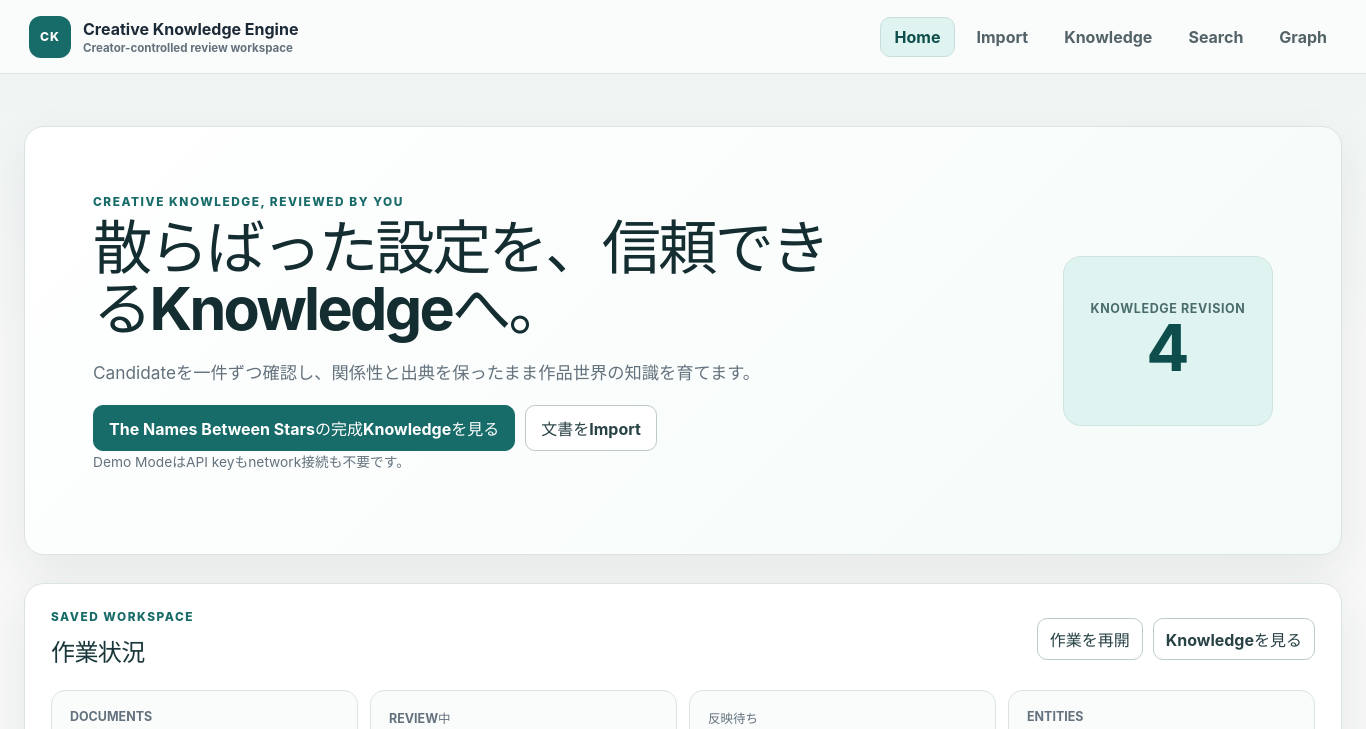
Test: Step 7 Export UI › maps download failures without leaking internal errors
The width and height of the screenshot is (1366, 729).
Expected: the heading "散らばった設定を、信頼できるKnowledgeへ。" is shown, [93, 218, 873, 340]
Click the button "Knowledge": (1108, 36) [1049, 16, 1167, 56]
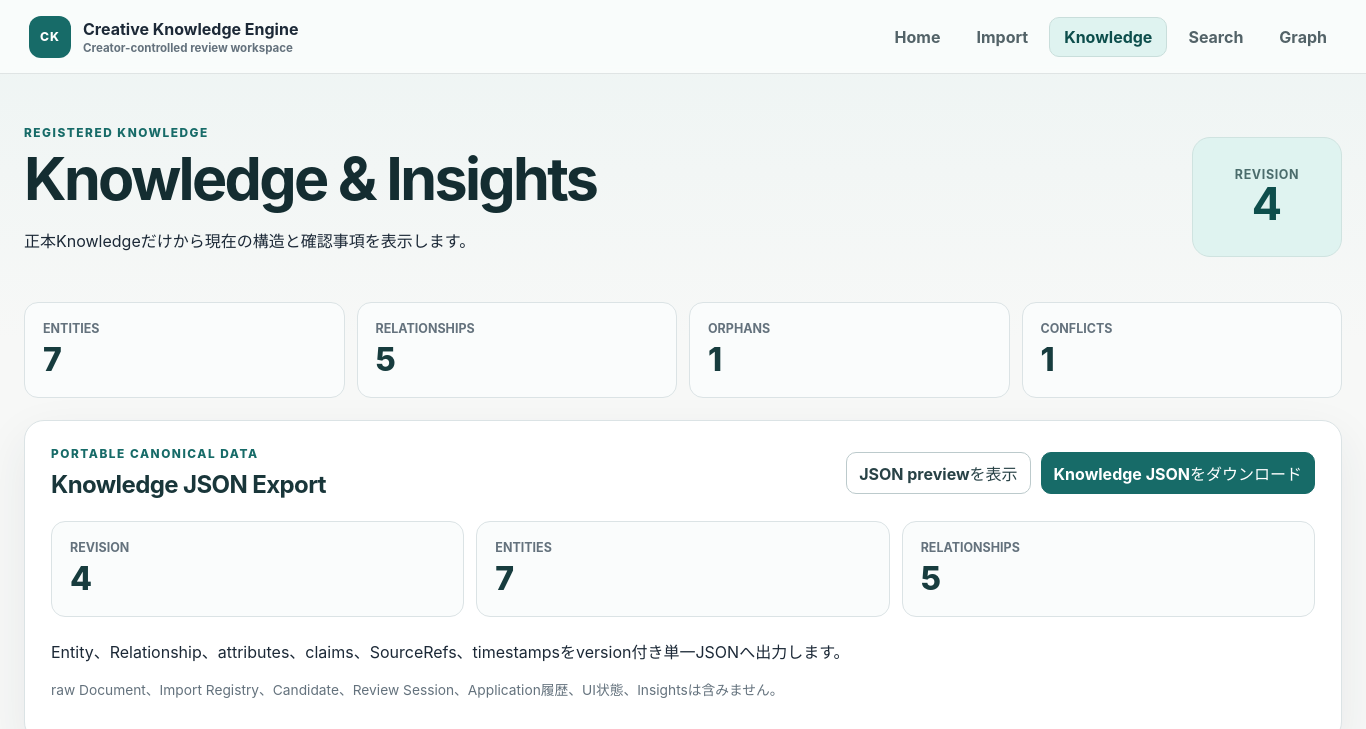
Click the button "Knowledge JSONをダウンロード": (1178, 473) [1041, 452, 1315, 494]
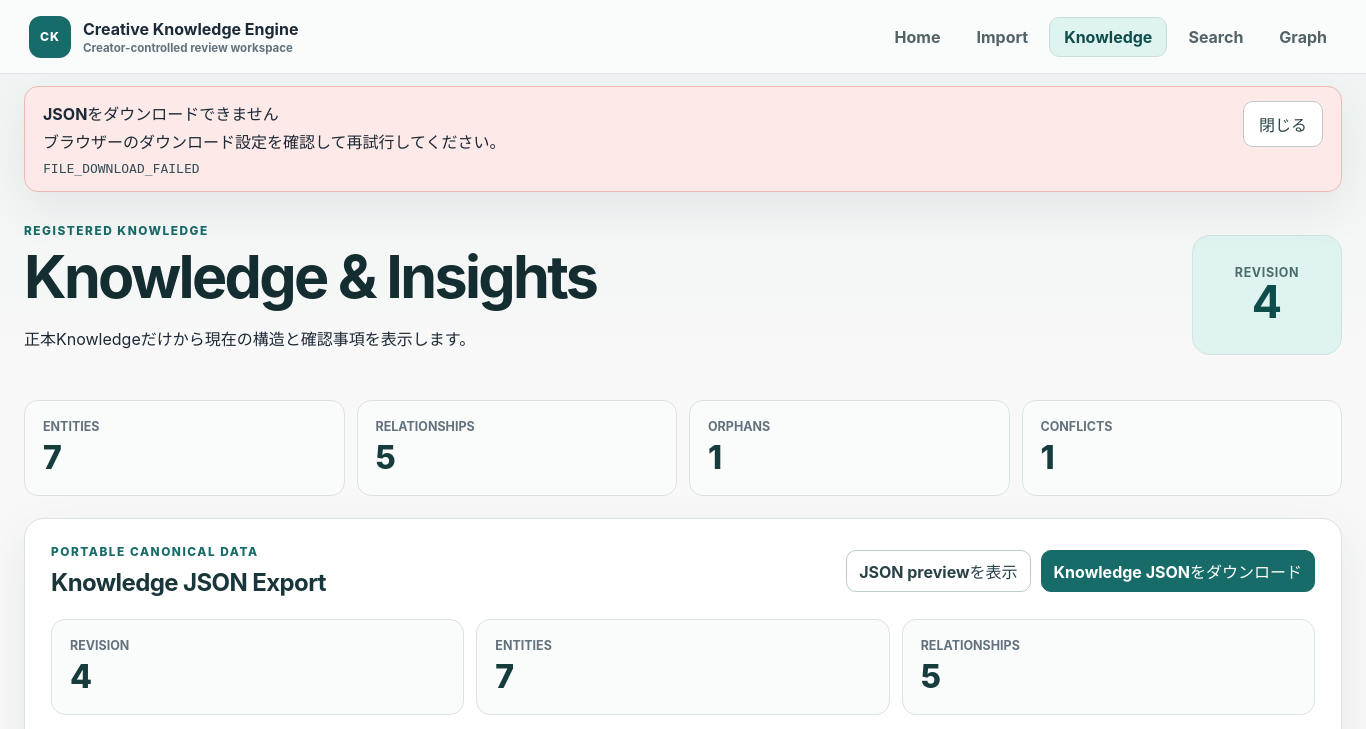
Expected: the text "JSONをダウンロードできません" is shown, [43, 104, 279, 124]
